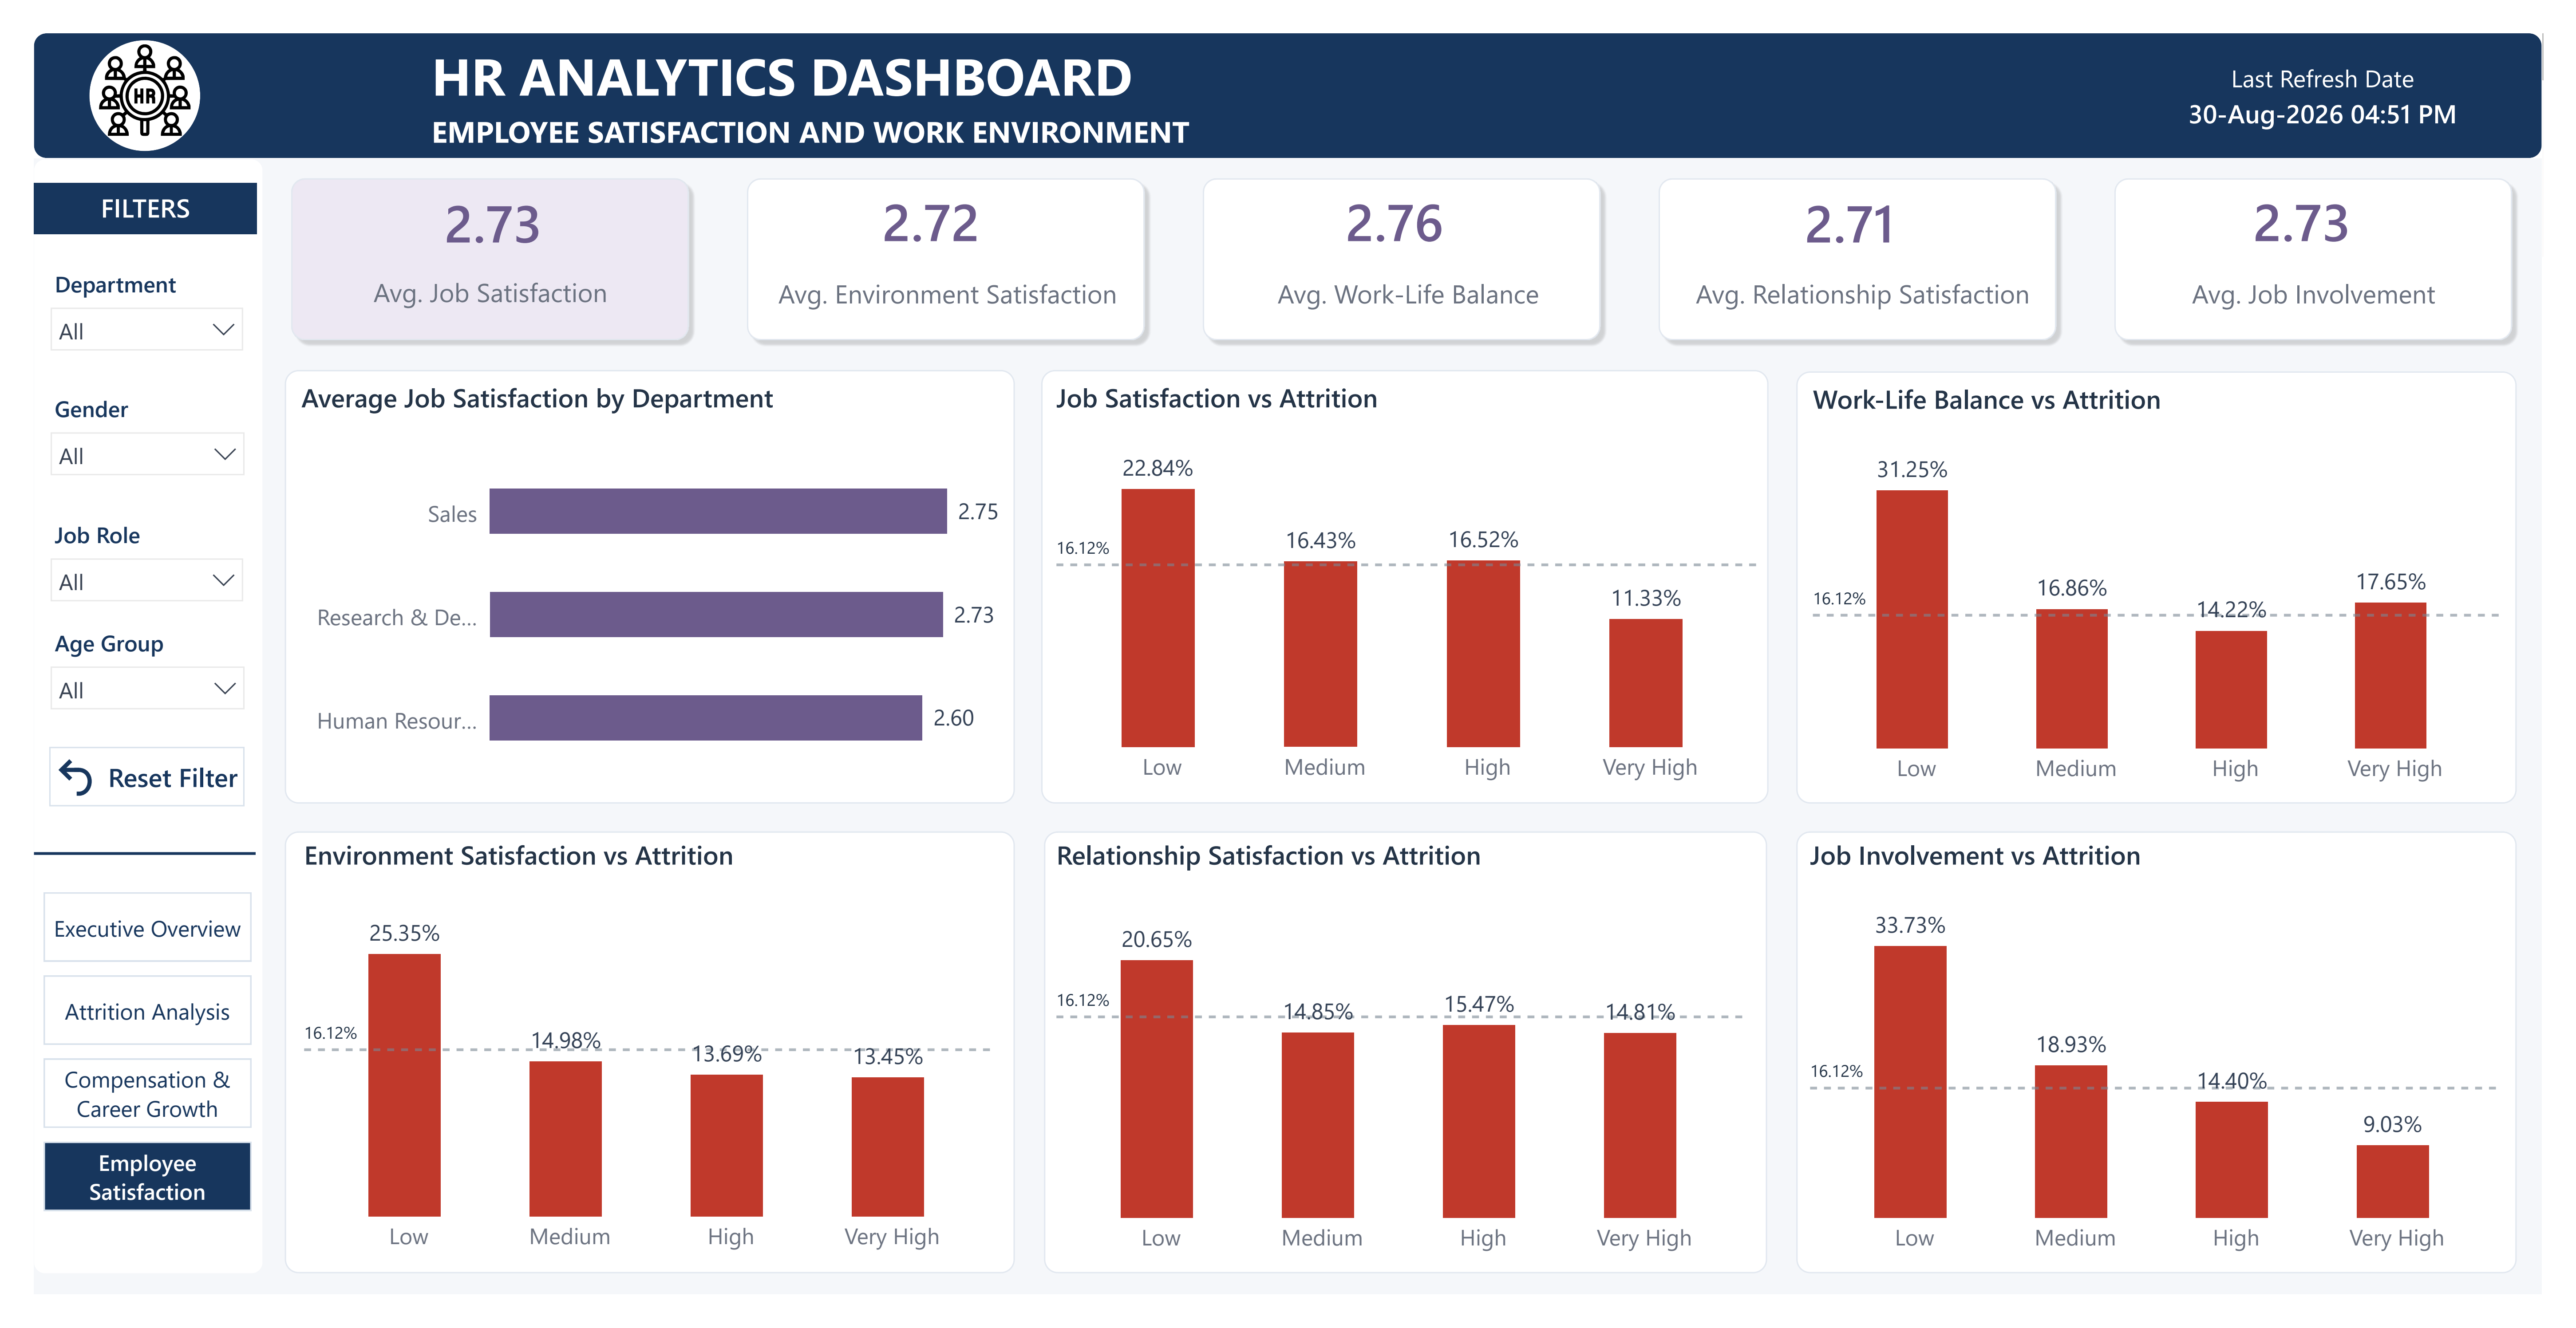

The page's visual inventory and layout, read from the dashboard file:
{"tool":"powerbi","page":{"name":"Employee Satisfaction","canvas":[1810,910],"ordinal":3},"visuals":[{"type":"shape","box":[0,0,1810,90],"z":0},{"type":"shape","box":[727.4,243.3,525,313],"z":1000},{"type":"shape","box":[181,243.3,526.8,313.1],"z":2000},{"type":"textbox","box":[281.7,0,575.7,60],"z":3000},{"type":"clusteredBarChart","title":"Average Job Satisfaction by Department","fields":{"Category":["hr_employees.department"],"Y":["_Measures.Average Job Satisfaction"]},"box":[187.5,249.9,514,300.1],"z":4000},{"type":"textbox","box":[282.1,50.6,600.1,38],"z":5000},{"type":"shape","box":[0,91.3,164.7,804],"z":6000},{"type":"shape","box":[1495.2,98.2,300,130],"z":7000,"group":"g5"},{"type":"slicer","fields":{"Values":["hr_employees.department"]},"box":[1.6,164.7,159.8,89.7],"z":7000},{"type":"shape","box":[178.6,98.2,300,130],"z":8000,"group":"g1"},{"type":"slicer","fields":{"Values":["hr_employees.gender"]},"box":[1.6,255.4,160,90],"z":8000},{"type":"shape","box":[507.8,98.2,300,130],"z":9000,"group":"g2"},{"type":"slicer","fields":{"Values":["hr_employees.Age Group"]},"box":[1.6,424,160,90],"z":9000},{"type":"shape","box":[836.9,98.2,300,130],"z":10000,"group":"g3"},{"type":"slicer","fields":{"Values":["hr_employees.job_role"]},"box":[1.6,346.4,159.8,76.6],"z":10000},{"type":"cardVisual","fields":{"Data":["_Measures.Last Refresh Date"]},"box":[1503.6,0,306.6,89.7],"z":11000},{"type":"shape","box":[1166.1,98.2,300,130],"z":11000,"group":"g4"},{"type":"textbox","box":[0,107.6,161.5,37.5],"z":12000},{"type":"shape","box":[0,585.5,159.8,13],"z":13000},{"type":"cardVisual","fields":{"Data":["_Measures.Average Job Satisfaction"]},"box":[245.5,95.9,171.2,76.6],"z":14000,"group":"g1"},{"type":"pageNavigator","box":[6.5,619.7,150,231.6],"z":14000},{"type":"textbox","box":[226.9,169.2,205.2,40],"z":15000,"group":"g1"},{"type":"actionButton","box":[11.4,515.3,140.3,42.4],"z":15000},{"type":"shape","box":[40.4,5,80,80],"z":16000},{"type":"cardVisual","fields":{"Data":["_Measures.Average Environment Satisfaction"]},"box":[542,98.2,210.4,70.1],"z":16000,"group":"g2"},{"type":"image","box":[47.1,8.4,65.6,65.6],"z":17000},{"type":"textbox","box":[524.1,170,270.7,39.1],"z":17000,"group":"g2"},{"type":"group","id":"g1","title":"Group 2","box":[178.6,95.9,300,132.3],"z":18000},{"type":"cardVisual","fields":{"Data":["_Measures.Average Work Life Balance"]},"box":[902.1,98.2,159.8,70.1],"z":18000,"group":"g3"},{"type":"group","id":"g2","title":"Group 3","box":[507.8,98.2,300,130],"z":19000},{"type":"textbox","box":[880.9,170,221.8,39.1],"z":19000,"group":"g3"},{"type":"group","id":"g3","title":"Group 4","box":[836.9,98.2,300,130],"z":20000},{"type":"cardVisual","fields":{"Data":["_Measures.Average Relationship Satisfaction"]},"box":[1218.1,98.8,185.3,70],"z":20000,"group":"g4"},{"type":"group","id":"g4","title":"Group 5","box":[1166.1,98.2,300,130],"z":21000},{"type":"textbox","box":[1182.4,170,275.6,39.1],"z":21000,"group":"g4"},{"type":"group","id":"g5","title":"Group 6","box":[1495.2,98.2,300,130],"z":22000},{"type":"cardVisual","fields":{"Data":["_Measures.Average Job Involvement"]},"box":[1544.1,98.2,185.9,70.1],"z":22000,"group":"g5"},{"type":"textbox","box":[1514.8,170,260.9,39.1],"z":23000,"group":"g5"},{"type":"shape","box":[181,575.7,526.8,319.6],"z":23000},{"type":"shape","box":[1272,575.7,520.2,319.6],"z":24000},{"type":"shape","box":[1272,244.1,520.2,311.5],"z":25000},{"type":"clusteredColumnChart","title":"Environment Satisfaction vs Attrition","fields":{"Category":["hr_employees.Environment Satisfaction Level"],"Y":["_Measures.Attrition Rate"]},"box":[190.1,580.3,510,309],"z":26000},{"type":"clusteredColumnChart","title":"Work-Life Balance vs Attrition","fields":{"Y":["_Measures.Attrition Rate"],"Category":["hr_employees.Work Life Balance Level"]},"box":[1278.6,251.1,505,300.1],"z":27000},{"type":"shape","box":[729,575.7,521.9,319.6],"z":28000},{"type":"columnChart","title":"Job Satisfaction vs Attrition","fields":{"Category":["hr_employees.Job Satisfaction Level"],"Y":["_Measures.Attrition Rate"]},"box":[733.4,250.2,514.7,299.4],"z":29000},{"type":"clusteredColumnChart","title":"Relationship Satisfaction vs Attrition","fields":{"Category":["hr_employees.Relationship Satifaction Level"],"Y":["_Measures.Attrition Rate"]},"box":[733.4,580.3,510,309.5],"z":30000},{"type":"clusteredColumnChart","title":"Job Involvement vs Attrition","fields":{"Y":["_Measures.Attrition Rate"],"Category":["hr_employees.Job Involvement Level"]},"box":[1276.8,580.3,509.7,309.5],"z":31000}]}

Visuals, with their boxes on the page's 1810x910 design canvas (x1, y1, x2, y2). These are canvas units, not pixel positions in the 2576x1328 screenshot, which may show the page scaled, cropped or inside an application window:
shape: <box>0,0,1810,90</box>
shape: <box>727,243,1252,556</box>
shape: <box>181,243,708,556</box>
textbox: <box>282,0,857,60</box>
"Average Job Satisfaction by Department" clusteredBarChart: <box>188,250,702,550</box>
textbox: <box>282,51,882,89</box>
shape: <box>0,91,165,895</box>
shape: <box>1495,98,1795,228</box>
slicer - hr_employees.department: <box>2,165,161,254</box>
shape: <box>179,98,479,228</box>
slicer - hr_employees.gender: <box>2,255,162,345</box>
shape: <box>508,98,808,228</box>
slicer - hr_employees.Age Group: <box>2,424,162,514</box>
shape: <box>837,98,1137,228</box>
slicer - hr_employees.job_role: <box>2,346,161,423</box>
cardVisual - _Measures.Last Refresh Date: <box>1504,0,1810,90</box>
shape: <box>1166,98,1466,228</box>
textbox: <box>0,108,162,145</box>
shape: <box>0,586,160,598</box>
cardVisual - _Measures.Average Job Satisfaction: <box>246,96,417,172</box>
pageNavigator: <box>6,620,156,851</box>
textbox: <box>227,169,432,209</box>
actionButton: <box>11,515,152,558</box>
shape: <box>40,5,120,85</box>
cardVisual - _Measures.Average Environment Satisfaction: <box>542,98,752,168</box>
image: <box>47,8,113,74</box>
textbox: <box>524,170,795,209</box>
"Group 2" group: <box>179,96,479,228</box>
cardVisual - _Measures.Average Work Life Balance: <box>902,98,1062,168</box>
"Group 3" group: <box>508,98,808,228</box>
textbox: <box>881,170,1103,209</box>
"Group 4" group: <box>837,98,1137,228</box>
cardVisual - _Measures.Average Relationship Satisfaction: <box>1218,99,1403,169</box>
"Group 5" group: <box>1166,98,1466,228</box>
textbox: <box>1182,170,1458,209</box>
"Group 6" group: <box>1495,98,1795,228</box>
cardVisual - _Measures.Average Job Involvement: <box>1544,98,1730,168</box>
textbox: <box>1515,170,1776,209</box>
shape: <box>181,576,708,895</box>
shape: <box>1272,576,1792,895</box>
shape: <box>1272,244,1792,556</box>
"Environment Satisfaction vs Attrition" clusteredColumnChart: <box>190,580,700,889</box>
"Work-Life Balance vs Attrition" clusteredColumnChart: <box>1279,251,1784,551</box>
shape: <box>729,576,1251,895</box>
"Job Satisfaction vs Attrition" columnChart: <box>733,250,1248,550</box>
"Relationship Satisfaction vs Attrition" clusteredColumnChart: <box>733,580,1243,890</box>
"Job Involvement vs Attrition" clusteredColumnChart: <box>1277,580,1786,890</box>
